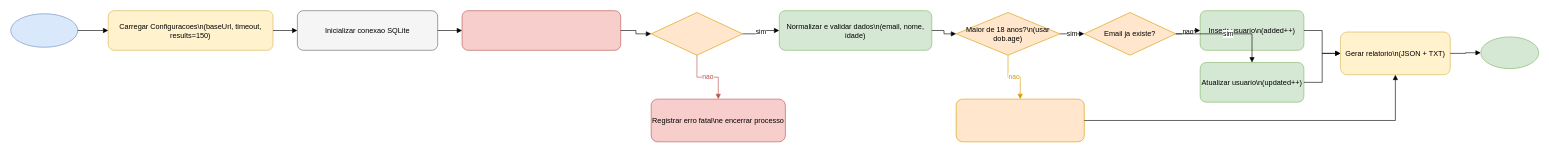
The diagram is 1549 pixels wide and 153 high, and some of its shapes have lost their labels. Here are the shapes that lost their labels. From the top down, the centre of each, then its label:
At [44,30]: "Inicio".
At [541,30]: "Requisitar RandomUser API\n(GET com results=150)".
At [697,33]: "API com sucesso?".
At [1509,52]: "Fim".
At [1020,120]: "Incrementar ignorados\n(e erro quando invalido)".
